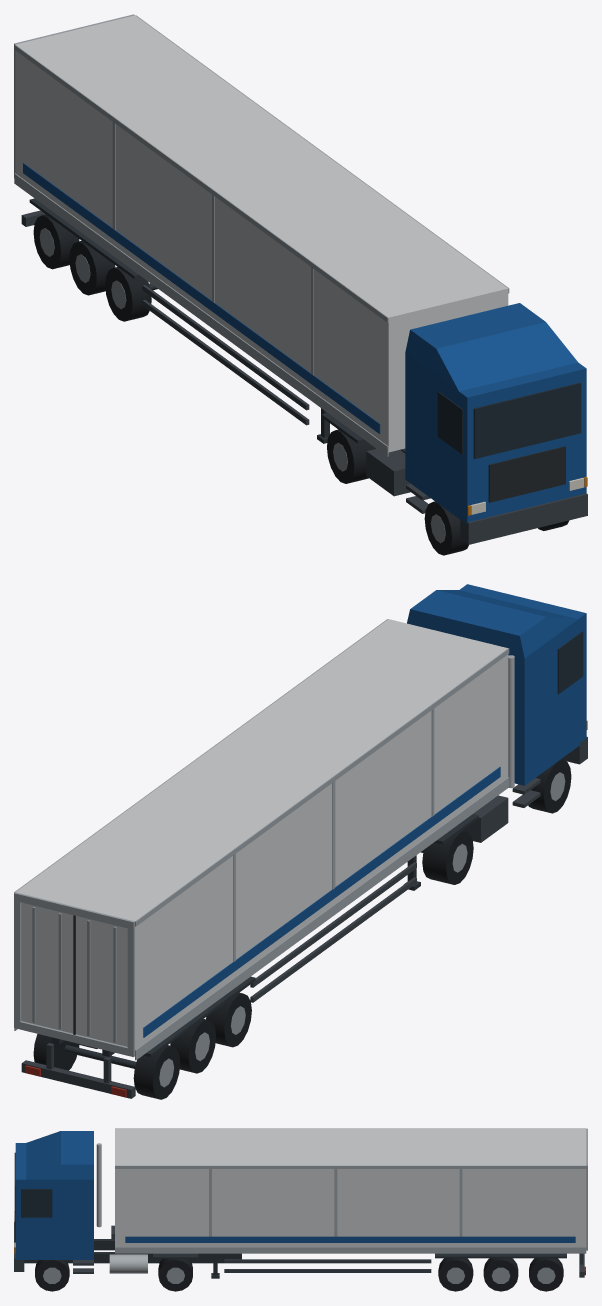
Rendered from truck.glb.
3 renders of one model, top to bottom at view 1: azimuth 30°, elevation 25°; view 2: azimuth 150°, elevation 25°; view 3: azimuth 270°, elevation 25°, orthographic. The views are drawn at different scales.
Visible parts, largest first — view 1: body_paint, body_matte, body_glass; view 2: body_paint, body_matte, body_glass; view 3: body_paint, body_matte, body_glass.
Part boxes in pixels (left/top/right/bottom): body_paint: left=14, top=14, right=587, bottom=543; body_matte: left=21, top=198, right=587, bottom=555; body_glass: left=437, top=382, right=581, bottom=458; body_paint: left=14, top=584, right=587, bottom=1097; body_matte: left=21, top=737, right=587, bottom=1099; body_glass: left=557, top=631, right=583, bottom=694; body_paint: left=14, top=1128, right=587, bottom=1283; body_matte: left=14, top=1217, right=584, bottom=1291; body_glass: left=14, top=1152, right=52, bottom=1217.
Size of the model in its own units: 2.55 by 4 by 16.5.
